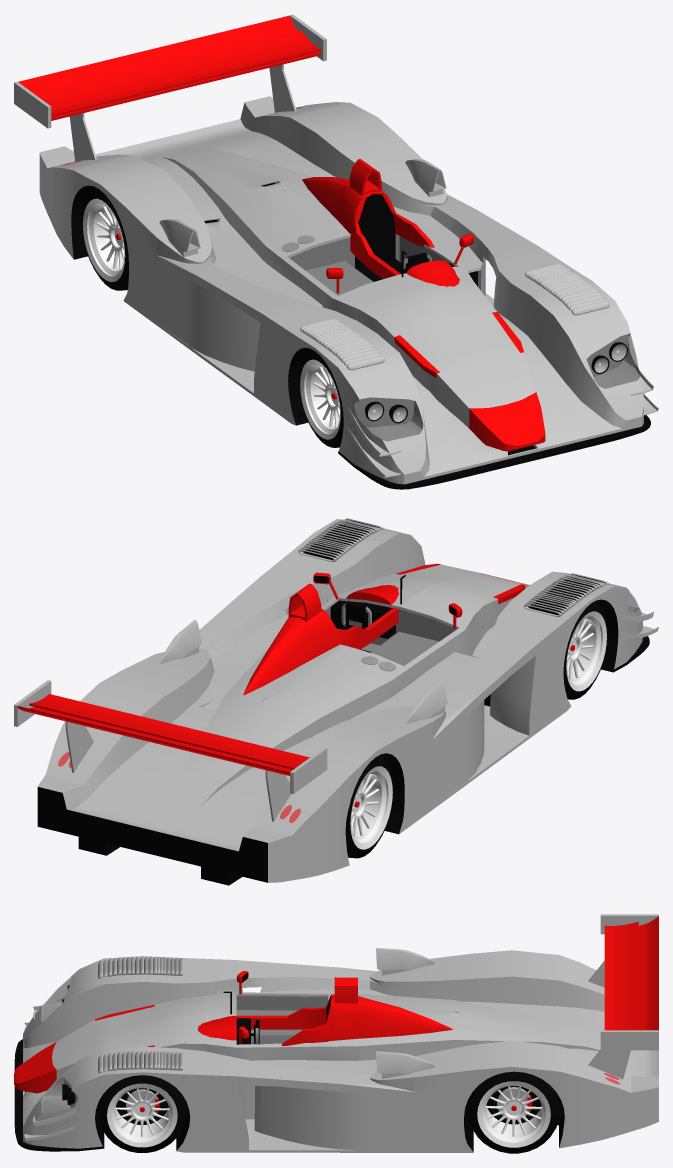
The model's file is audi_r8_lmp.glb.
3 views of the same model, one above another, from view 1: azimuth 30°, elevation 25°; view 2: azimuth 150°, elevation 25°; view 3: azimuth 270°, elevation 25° (orthographic). The views are drawn at different scales.
Visible parts, largest first — view 1: Cube.001, Cube.002, Cube.005, Cube.008, Cube, Cube.007, Cube.012, Cube.006, Cylinder.011, Cylinder.016, Cube.003, Cube.004 (+7 smaller); view 2: Cube.001, Cube.002, Cube.005, Cube.008, Cube, Cube.006, Cylinder.011, Cylinder.016, Cube.003, Cube.004, Cylinder.012, Cube.014 (+5 smaller); view 3: Cube.001, Cube.002, Cube.008, Cube.005, Cube, Cylinder.007, Cylinder.008, Cube.006, Cylinder.004, Cylinder.005, Cube.004, Cube.007 (+6 smaller).
Boxes of the visible parts, x1,y1,x2,y2 form: Cube.001: (39, 96, 643, 484); Cube.002: (162, 148, 545, 451); Cube.005: (18, 15, 320, 120); Cube.008: (302, 159, 434, 281); Cube: (300, 264, 609, 370); Cube.007: (355, 334, 639, 440); Cube.012: (338, 415, 650, 489); Cube.006: (159, 159, 446, 256); Cylinder.011: (83, 198, 125, 281); Cylinder.016: (300, 359, 340, 439); Cube.003: (69, 64, 296, 161); Cube.004: (14, 14, 326, 128); Cube.001: (37, 519, 642, 882); Cube.002: (162, 563, 529, 809); Cube.005: (17, 694, 309, 775); Cube.008: (243, 583, 398, 695); Cube: (298, 518, 608, 616); Cube.006: (160, 620, 447, 723); Cylinder.011: (350, 766, 392, 849); Cylinder.016: (566, 611, 606, 691); Cube.003: (65, 721, 291, 821); Cube.004: (14, 680, 327, 794); Cylinder.012: (345, 755, 393, 858); Cube.014: (78, 837, 242, 885); Cube.001: (23, 950, 658, 1152); Cube.002: (14, 992, 600, 1119); Cube.008: (236, 977, 452, 1045); Cube.005: (604, 916, 658, 1030); Cube: (98, 956, 182, 1073); Cylinder.007: (467, 1071, 560, 1153); Cylinder.008: (477, 1081, 550, 1147); Cube.006: (376, 948, 435, 1078); Cylinder.004: (107, 1083, 177, 1147); Cylinder.005: (97, 1075, 187, 1152); Cube.004: (600, 914, 658, 1050); Cube.007: (42, 977, 77, 1112).
Size of the model in its own units: 2.74 by 1.47 by 6.36.
